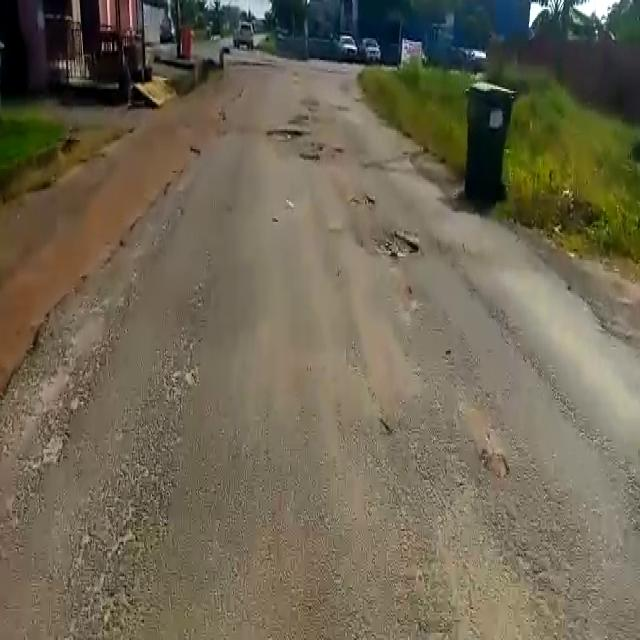Pothole: (363, 228, 424, 262), (268, 126, 305, 140), (297, 150, 321, 167)
